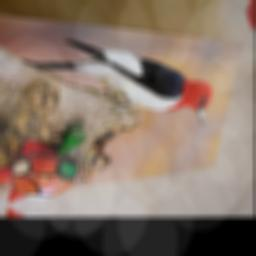Woodpecker: (13, 36, 220, 126)
